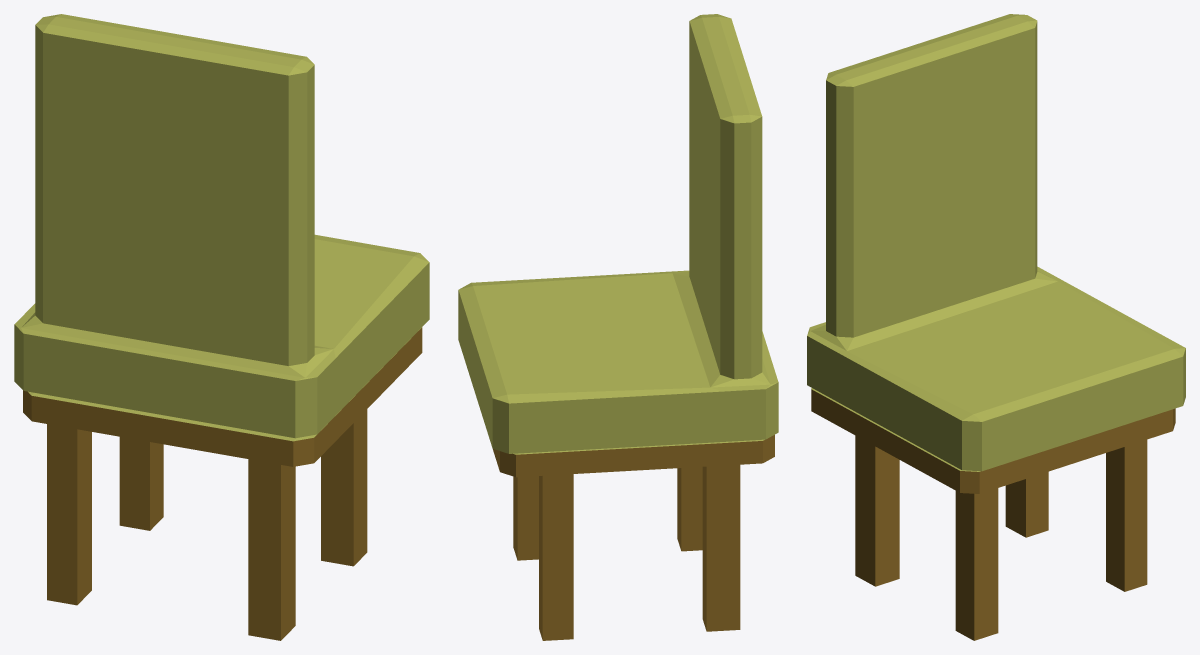
The model's file is Chair_Material.fbx.
3 views of the same model, side by side, from view 1: azimuth 30°, elevation 25°; view 2: azimuth 150°, elevation 25°; view 3: azimuth 270°, elevation 25° (orthographic). The views are drawn at different scales.
Visible parts, largest first — view 1: Chair.002; view 2: Chair.002; view 3: Chair.002.
Boxes of the visible parts, box(x1,y1,x2,y2) form: Chair.002: box(14, 14, 429, 640); Chair.002: box(458, 14, 778, 640); Chair.002: box(807, 14, 1185, 640).
Bounding box in the file's own units: 0.4671 × 0.6827 × 0.4671.
